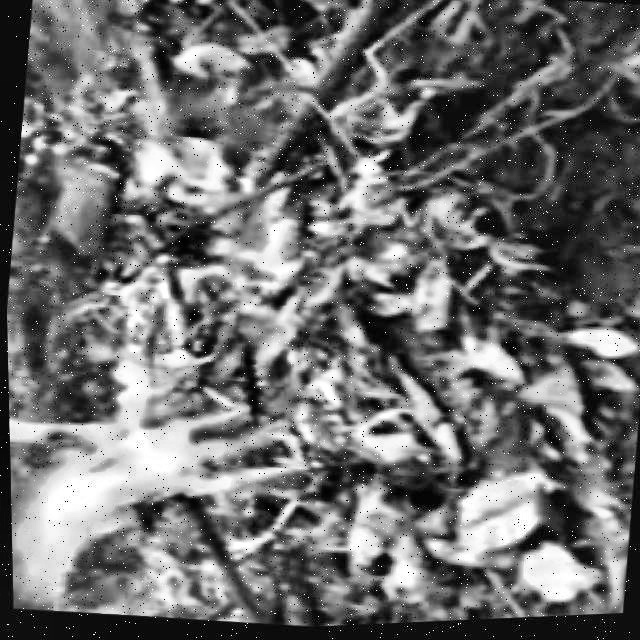Fire: (101, 133, 356, 516), (7, 376, 215, 624)
